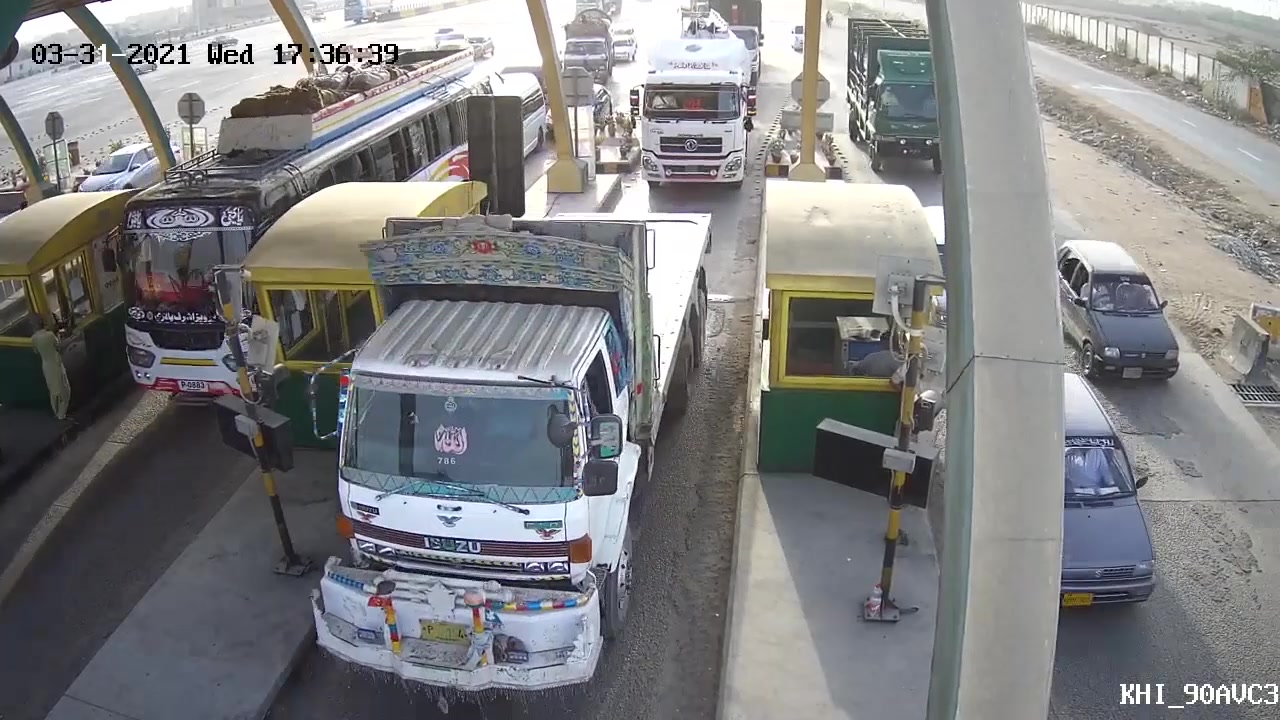F5: (301, 203, 719, 705)
